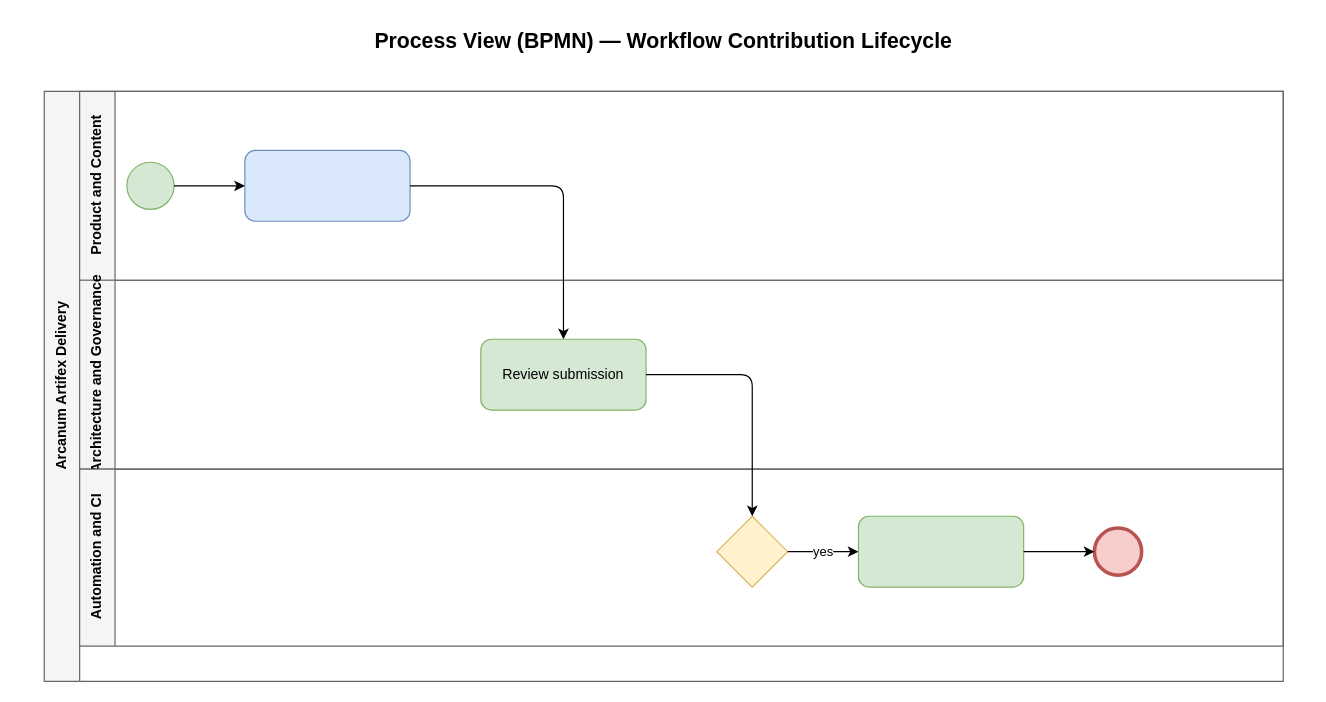
The diagram is 1326 pixels wide and 702 high, and some of its shapes have lost their labels. The centre of each missing label's shape, as x and y in pixels:
Define scope: (x=327, y=185)
Run smoke-test and package: (x=940, y=551)
